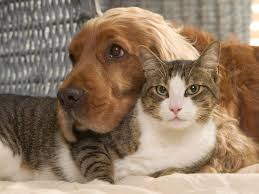cat: (134, 34, 227, 131)
dog: (52, 5, 196, 143)
